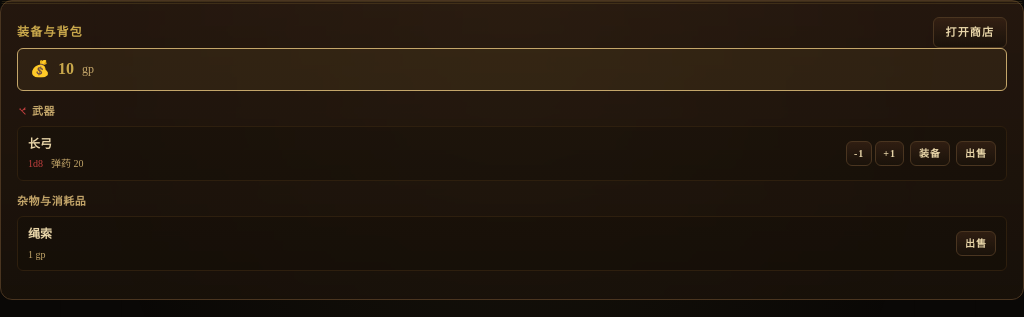
Test: InventoryPanel › adjusts ammunition without replacing the rest of the equipment
The image size is (1024, 317).
Click the button "-1" at (859, 153), box [846,141,872,166]
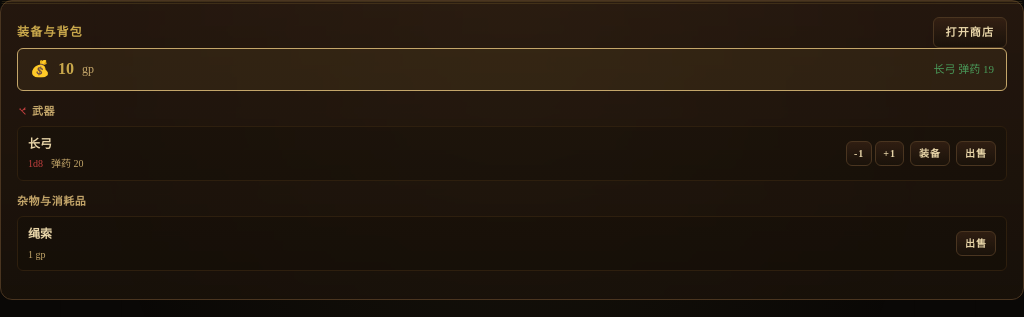
Check: the text "长弓 弹药 19" is shown, box [934,61,994,78]
